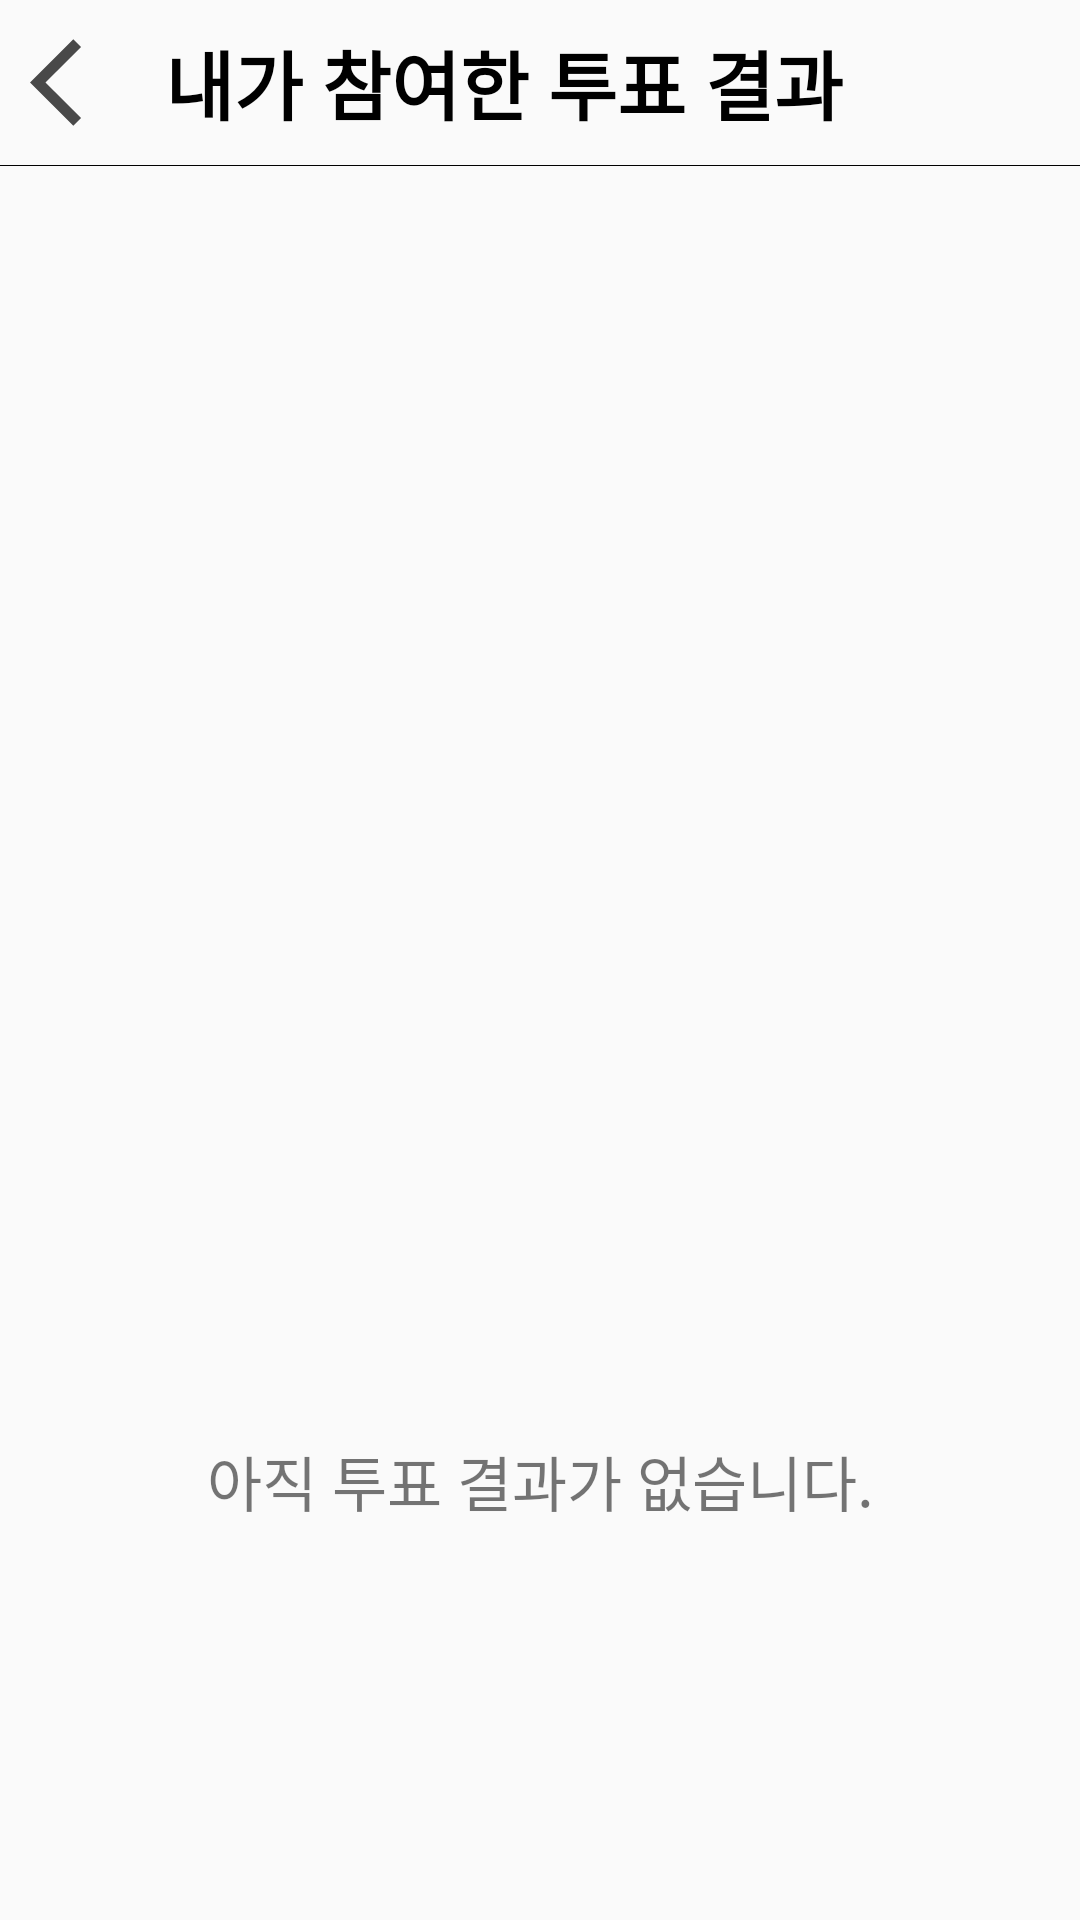

Icon click points for this 1080×1920 phone screenshot, format (x=x, y=y):
arrow back: (x=55, y=82)
